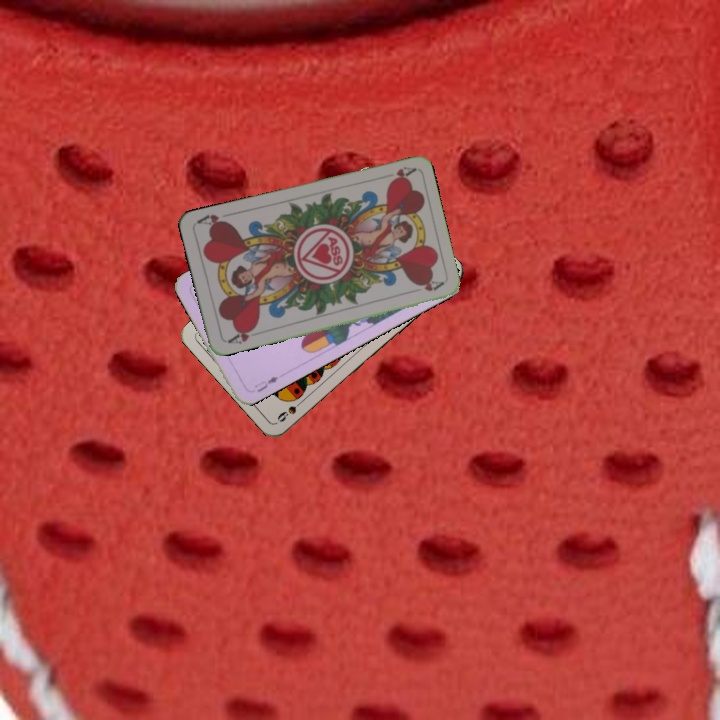EU: (250, 371, 284, 395)
HA: (376, 162, 417, 185), (223, 323, 262, 347)
S9: (273, 394, 307, 425)
